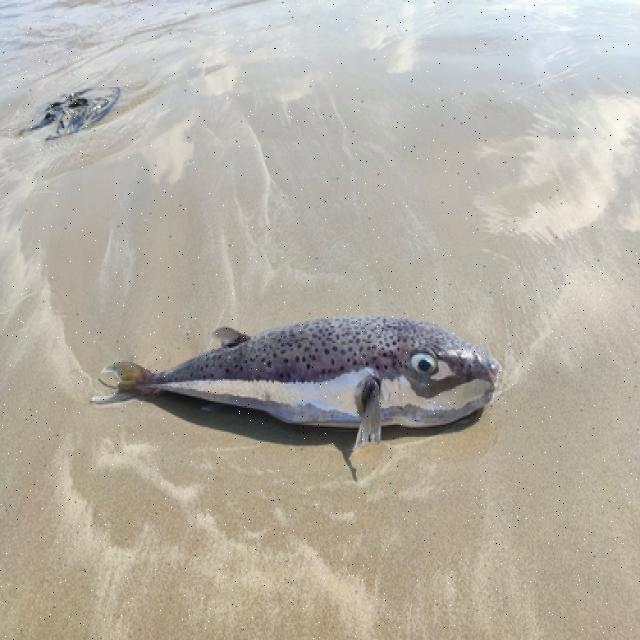Balik: (94, 318, 500, 447)
